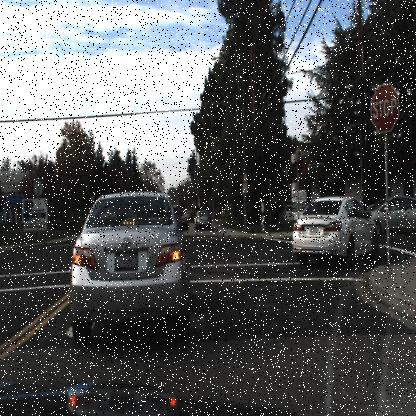car: (68, 191, 190, 350), (294, 196, 381, 266), (192, 206, 214, 230), (279, 201, 298, 226)
